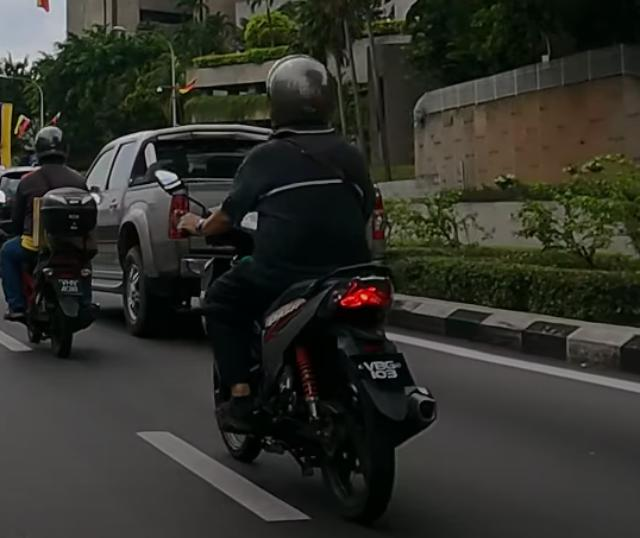License_Plate: (354, 357, 411, 390), (54, 276, 86, 298)
motorcycle: (176, 199, 438, 526), (1, 186, 103, 359)
